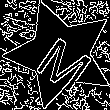M_NE: (25, 20, 95, 89)
